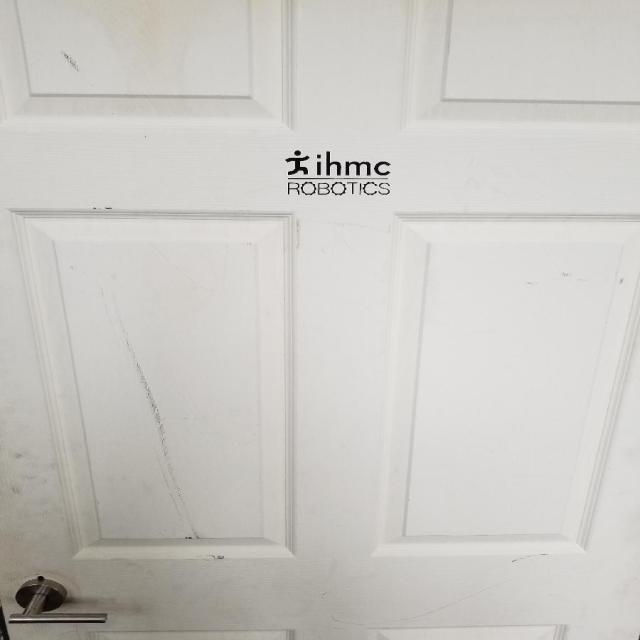door: (0, 577, 112, 628)
